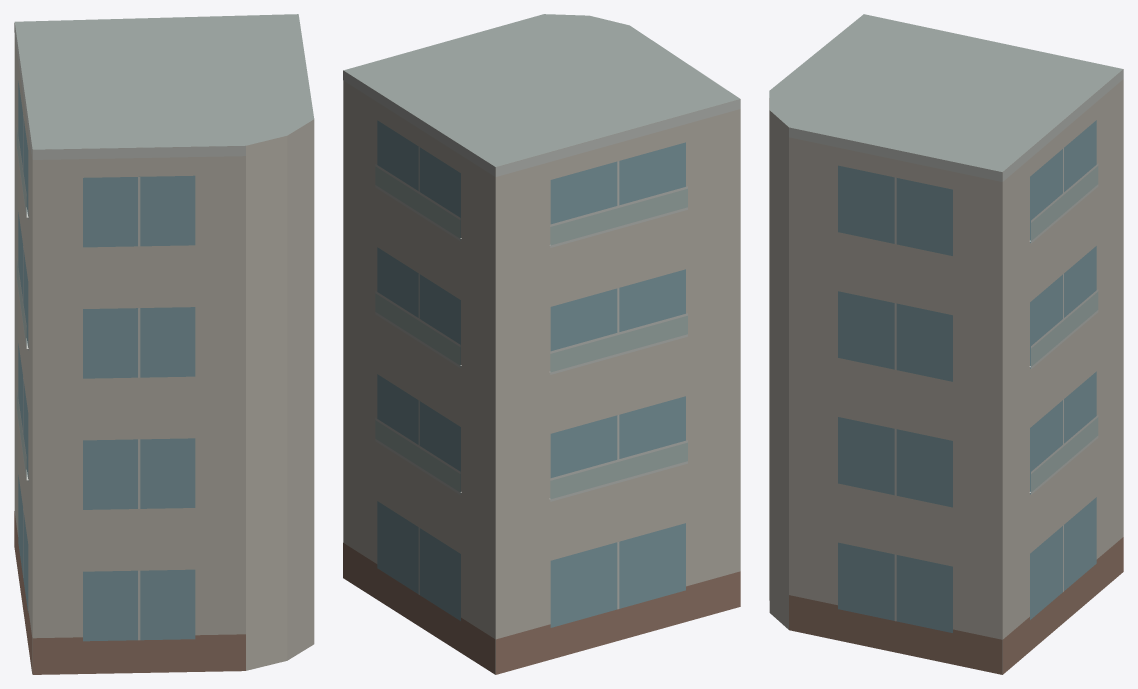
Rendered from survey-upis-32729579.glb.
3 renders of one model, left to right at view 1: azimuth 30°, elevation 25°; view 2: azimuth 150°, elevation 25°; view 3: azimuth 270°, elevation 25°, orthographic. The views are drawn at different scales.
Parts seen in each view (by area): view 1: survey-upis-32729579.tmp; view 2: survey-upis-32729579.tmp; view 3: survey-upis-32729579.tmp.
Part boxes in pixels (x1,y1,x2,y2): survey-upis-32729579.tmp: (14, 14, 314, 674); survey-upis-32729579.tmp: (343, 14, 740, 674); survey-upis-32729579.tmp: (769, 14, 1123, 674).
Bounding box in the file's own units: 8.38 × 12.4 × 7.93.
